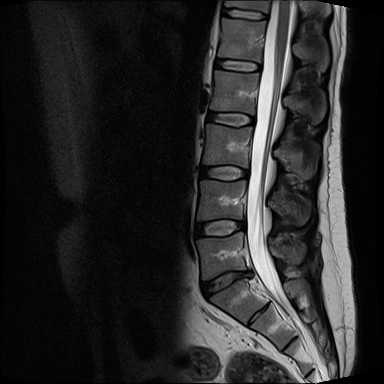Lumbar Disc Bulge (LDB): (197, 266, 261, 305)
Normal IVD: (191, 212, 252, 243), (206, 52, 266, 76), (195, 160, 253, 183), (201, 107, 260, 129), (217, 6, 271, 23)
Spinal Stenosis (SS): (241, 258, 261, 288)
